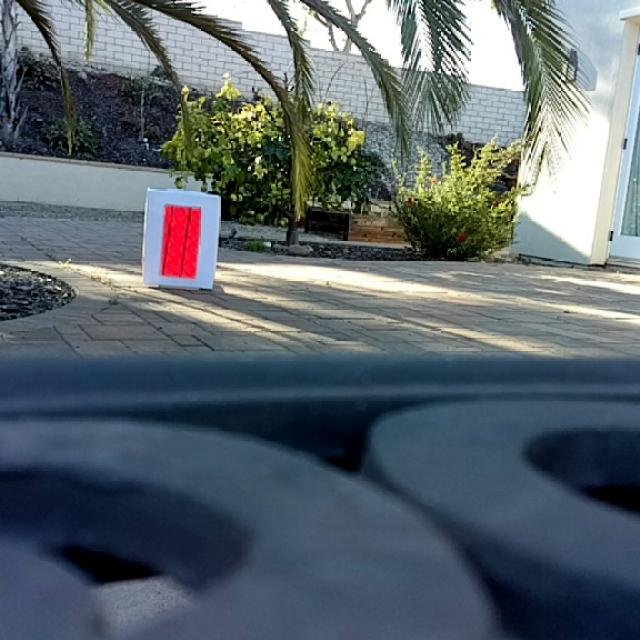led: (160, 204, 201, 282)
